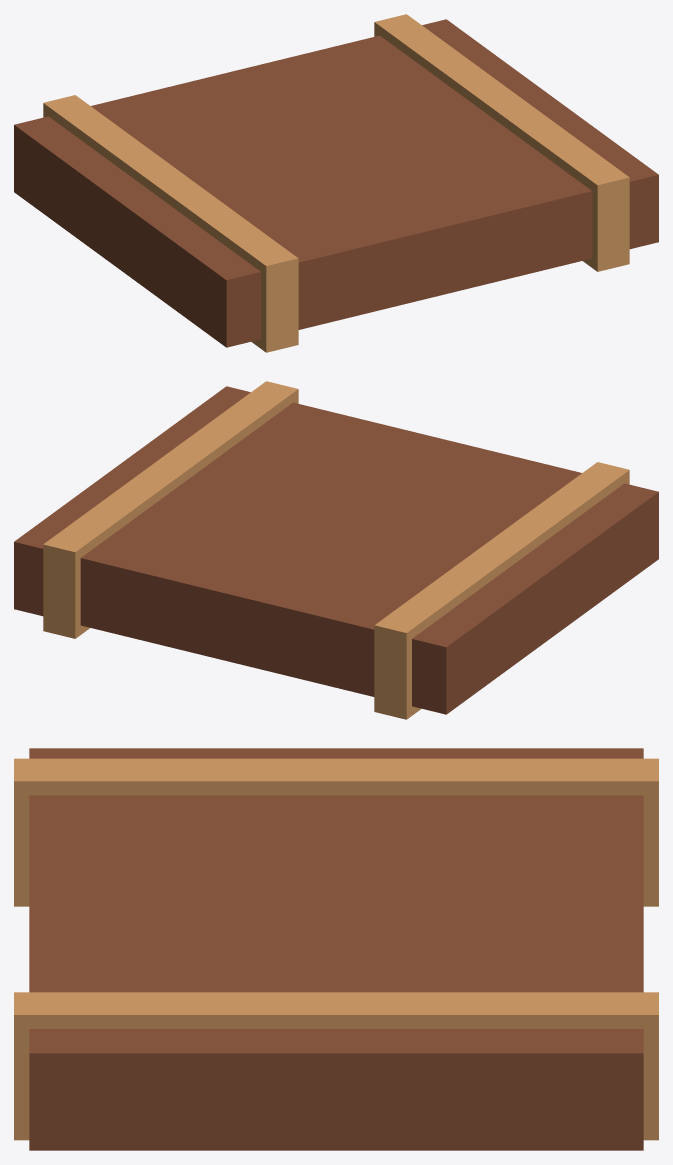
The model's file is plank.glb.
3 renders of one model, top to bottom at view 1: azimuth 30°, elevation 25°; view 2: azimuth 150°, elevation 25°; view 3: azimuth 270°, elevation 25°, orthographic. The views are drawn at different scales.
Parts seen in each view (by area): view 1: Plank; view 2: Plank; view 3: Plank.
Part boxes in pixels (<box>): Plank: <box>14,14,658,352</box>; Plank: <box>14,381,658,719</box>; Plank: <box>14,748,658,1150</box>.
Bounding box in the file's own units: 0.94 × 0.18 × 0.84.
